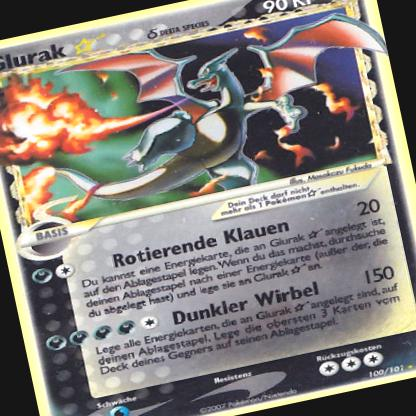Charizard: (6, 12, 373, 221)
